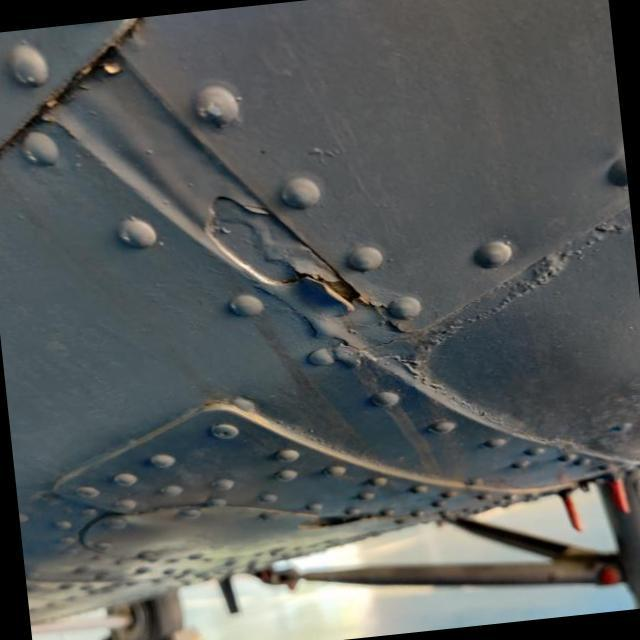Rupture: (268, 251, 389, 337)
